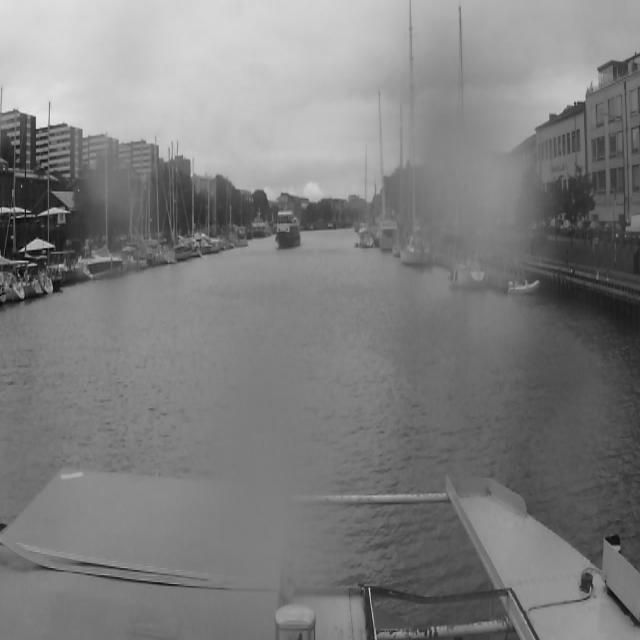ship: (444, 2, 490, 290), (401, 10, 433, 261), (29, 101, 64, 292), (0, 87, 28, 299), (168, 142, 200, 259), (373, 87, 395, 250), (143, 134, 165, 265), (122, 140, 144, 268), (77, 242, 124, 282), (275, 208, 300, 250), (361, 140, 368, 247), (508, 277, 538, 296)
